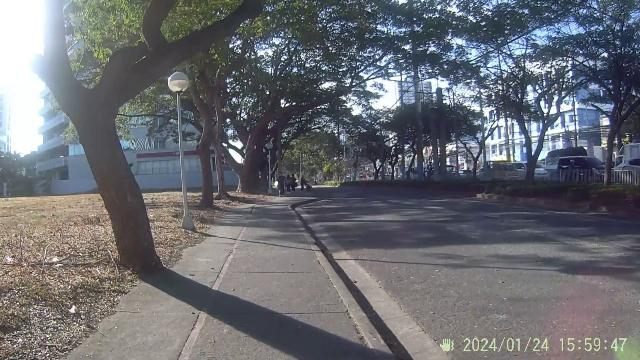lamp_post: (165, 70, 199, 234)
tree: (59, 40, 172, 272)
